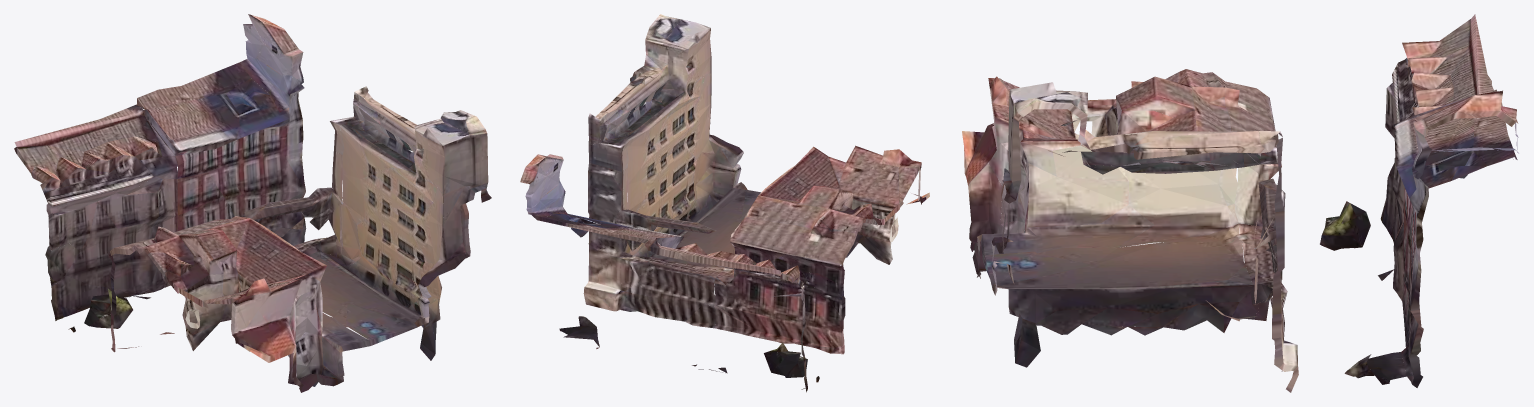
3 views of the same model, side by side, from view 1: azimuth 30°, elevation 25°; view 2: azimuth 150°, elevation 25°; view 3: azimuth 270°, elevation 25° (orthographic). The views are drawn at different scales.
Visible parts, largest first — view 1: Mesh_0; view 2: Mesh_0; view 3: Mesh_0.
Boxes of the visible parts, x1,y1,x2,y2 form: Mesh_0: (14, 14, 491, 392); Mesh_0: (520, 14, 929, 392); Mesh_0: (962, 14, 1518, 392).
Size of the model in its own units: 33.34 by 24.94 by 41.46.
2 materials, 2 textured.
